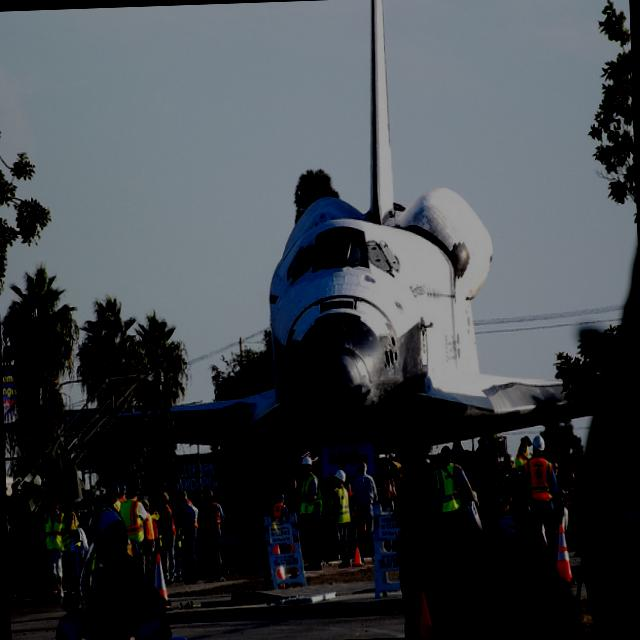Vehicle: (144, 597, 174, 613)
